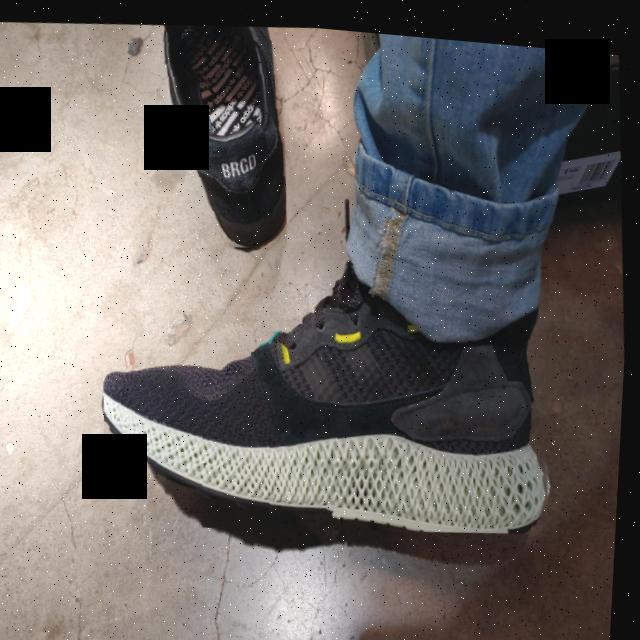shoe: (92, 223, 569, 554), (146, 13, 298, 254)
